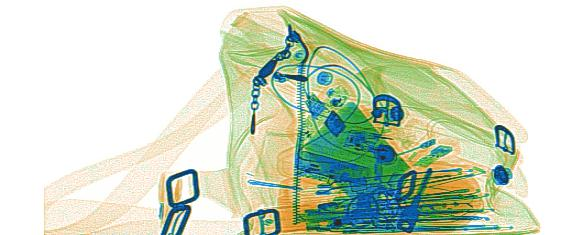USBFlashDisk: (414, 145, 453, 168)
